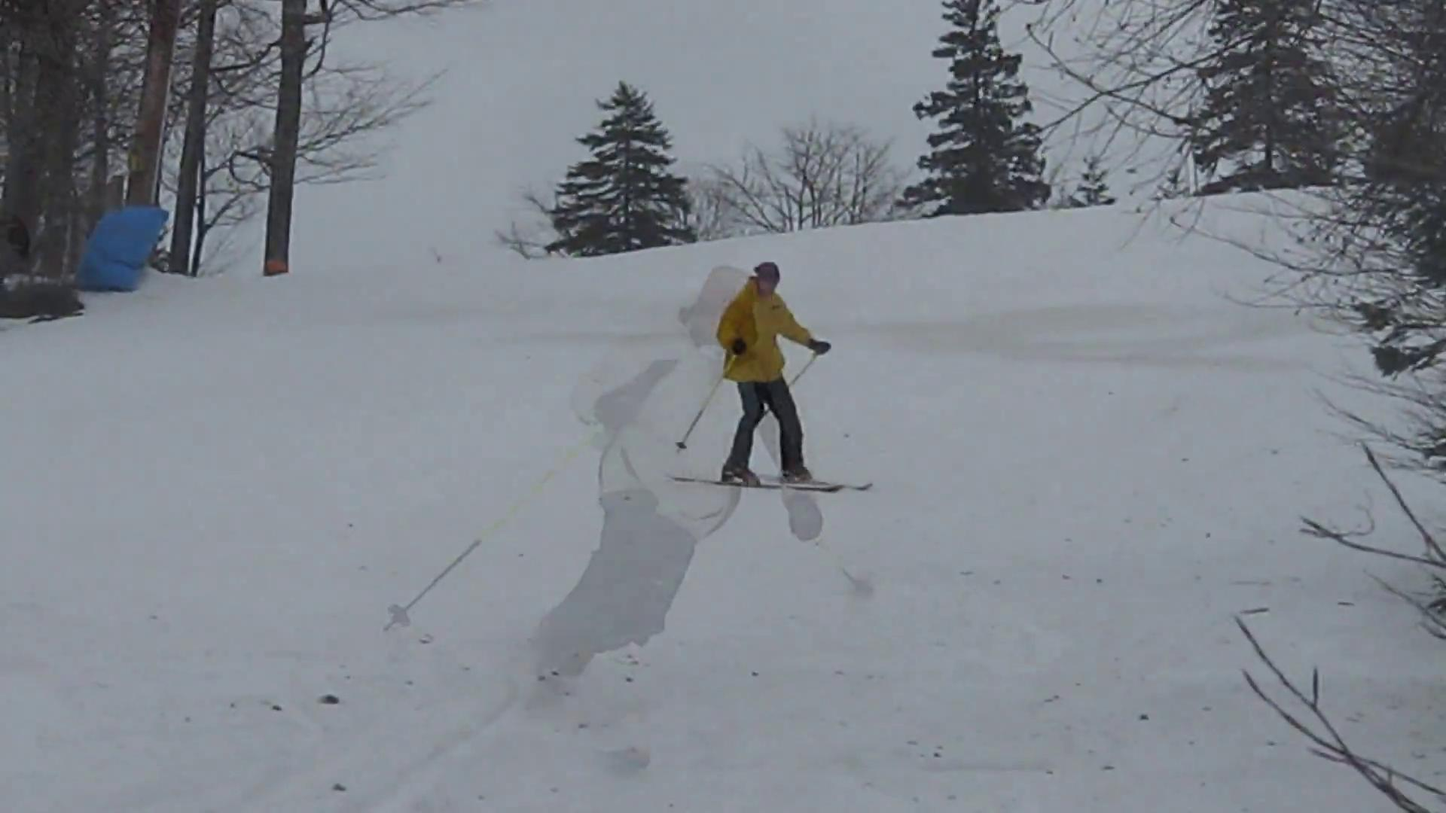victim: (501, 264, 819, 699), (715, 260, 836, 505)
